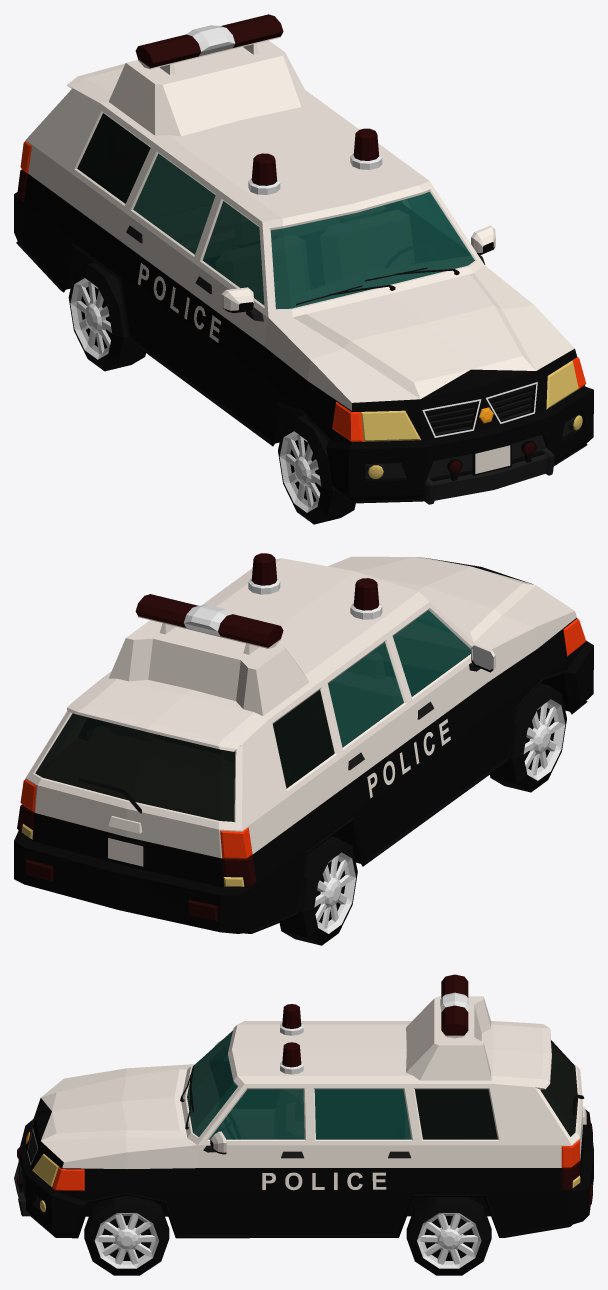
The model's file is PoliceVan_07.FBX.
3 renders of one model, top to bottom at view 1: azimuth 30°, elevation 25°; view 2: azimuth 150°, elevation 25°; view 3: azimuth 270°, elevation 25°, orthographic. The views are drawn at different scales.
Parts seen in each view (by area): view 1: PoliceVan_07, interior, lights, seat_b, wheel_b_r, seat_f_l, wheel_f_r, seat_f_r, headLights, signalLights_01, signalLights_02, indicatorLights_r (+2 smaller); view 2: PoliceVan_07, lights, interior, wheel_b_r, wheel_f_r, seat_f_r, signalLights_01, signalLights_02, tailLights, indicatorLights_r, licensePlate_b, mirror_r; view 3: PoliceVan_07, interior, lights, wheel_b_l, wheel_f_l, seat_f_r, signalLights_02, indicatorLights_l, signalLights_01, seat_f_l, headLights, tailLights.
Boxes of the visible parts, x1,y1,x2,y2 form: PoliceVan_07: (14,60,593,504); interior: (133,153,474,308); lights: (108,25,581,480); seat_b: (134,155,339,258); wheel_b_r: (68,262,145,371); seat_f_l: (320,206,414,283); wheel_f_r: (278,415,355,524); seat_f_r: (216,217,309,304); headLights: (361,360,582,478); signalLights_01: (135,34,461,473); signalLights_02: (221,14,535,455); indicatorLights_r: (20,141,363,442); PoliceVan_07: (14,556,593,933); lights: (108,578,382,715); interior: (328,610,470,746); wheel_b_r: (279,836,357,945); wheel_f_r: (490,683,566,792); seat_f_r: (328,653,403,746); signalLights_01: (218,553,283,647); signalLights_02: (135,578,379,627); tailLights: (17,804,256,920); indicatorLights_r: (220,618,585,858); licensePlate_b: (106,835,145,868); mirror_r: (469,644,495,672); PoliceVan_07: (14,1021,593,1238); interior: (187,1031,410,1139); lights: (19,992,491,1212); wheel_b_l: (406,1197,491,1275); wheel_f_l: (84,1195,169,1275); seat_f_r: (218,1090,298,1139); signalLights_02: (17,1004,468,1186); indicatorLights_l: (52,1139,579,1190); signalLights_01: (17,974,468,1158); seat_f_l: (278,1090,303,1139); headLights: (32,1120,58,1211); tailLights: (561,1123,592,1205).
Bounding box in the file's own units: 26.66 × 63.93 × 28.5.
